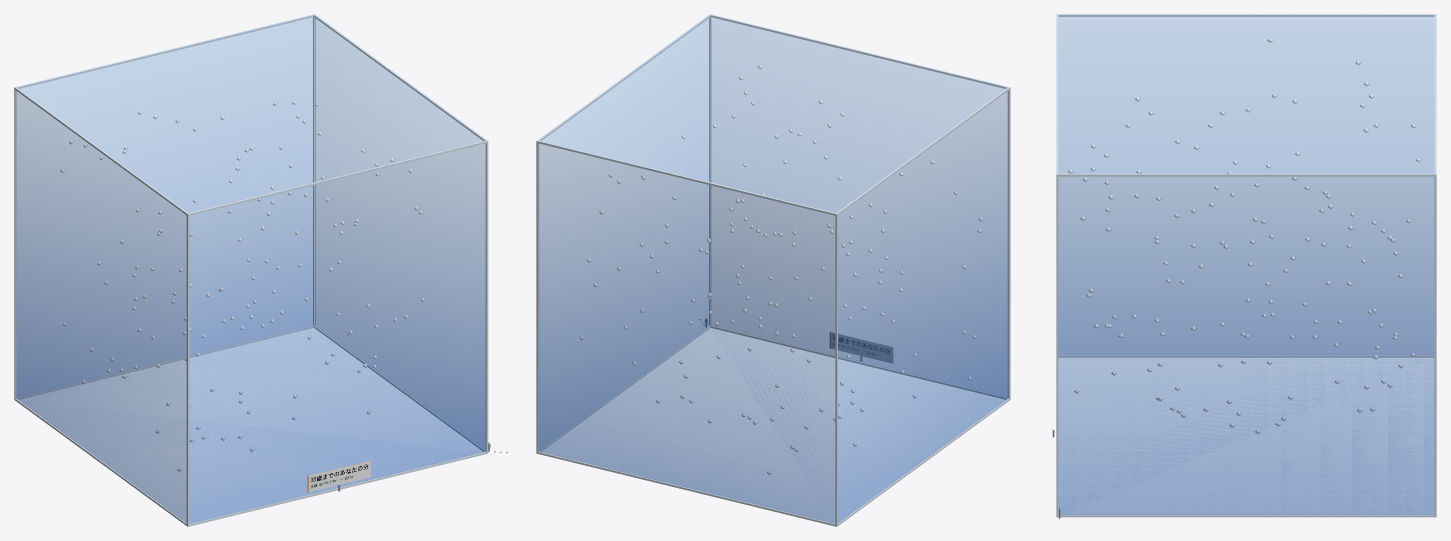
File: cube_life_35.glb
The picture shows the model from 3 angles, left to right: view 1: azimuth 30°, elevation 25°; view 2: azimuth 150°, elevation 25°; view 3: azimuth 270°, elevation 25°; orthographic projection. The views are drawn at different scales.
Parts seen in each view (by area): view 1: co2, edge, dots, label; view 2: co2, edge, dots, label; view 3: co2, edge, dots.
Boxes of the visible parts, <box> form: co2: <box>16,15,485,523</box>; edge: <box>14,14,488,526</box>; dots: <box>60,100,425,471</box>; label: <box>307,460,370,492</box>; co2: <box>539,15,1008,523</box>; edge: <box>536,14,1010,526</box>; dots: <box>580,65,982,474</box>; label: <box>830,332,892,363</box>; co2: <box>1057,14,1434,514</box>; edge: <box>1056,14,1436,517</box>; dots: <box>1068,38,1420,434</box>.
Size of the model in its own units: 60.09 by 56.35 by 59.19.
Materials: 8 (3 with a texture image).
